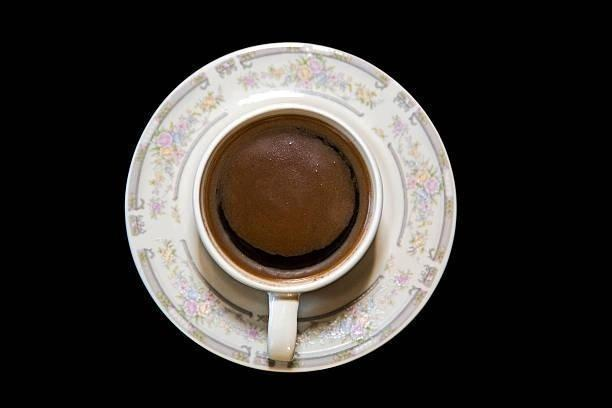cup-handle: (187, 95, 394, 365)
